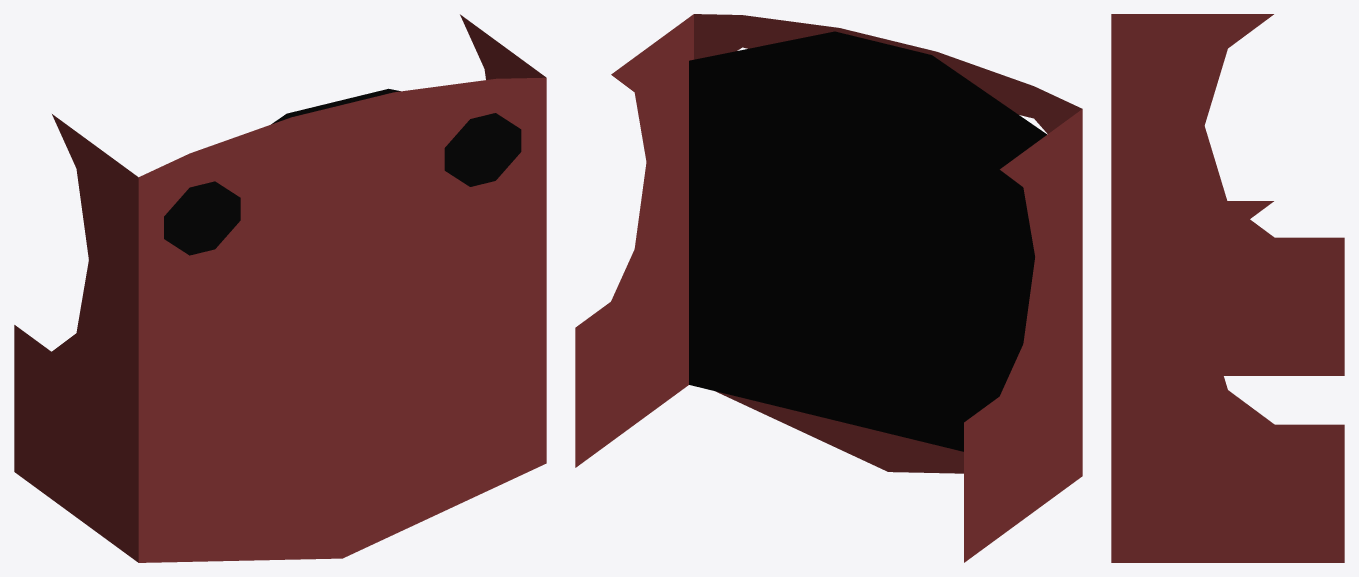
Rendered from mr-open-cab.dae.
3 views of the same model, side by side, from view 1: azimuth 30°, elevation 25°; view 2: azimuth 150°, elevation 25°; view 3: azimuth 270°, elevation 25° (orthographic). The views are drawn at different scales.
Visible parts, largest first — view 1: Plane_008, Plane, Plane_050; view 2: Plane_050, Plane_008, Plane; view 3: Plane, Plane_008.
Part boxes in pixels (x1,y1,x2,y2): Plane_008: (14,105,342,562); Plane: (342,14,546,558); Plane_050: (164,88,521,255); Plane_050: (689,31,1046,451); Plane_008: (888,40,1082,562); Plane: (575,14,888,471); Plane: (1111,201,1344,562); Plane_008: (1111,14,1344,375).
Size of the model in its own units: 1.6 by 0.8447 by 1.7.
